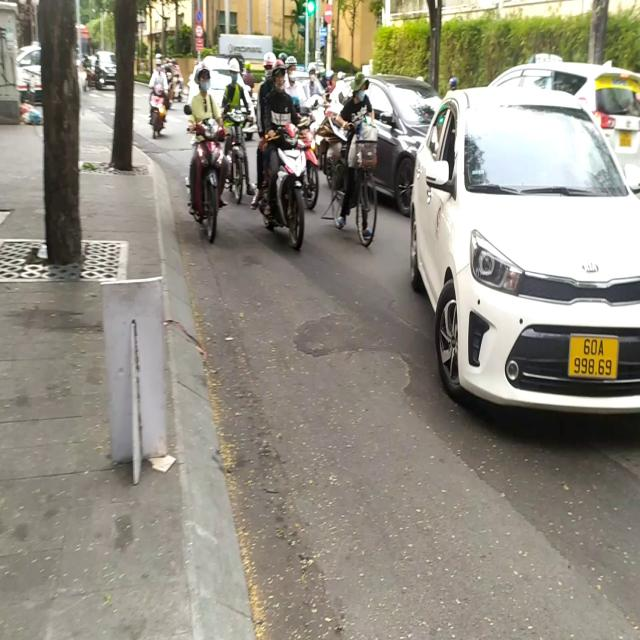bien_vang: (569, 326, 619, 386)
